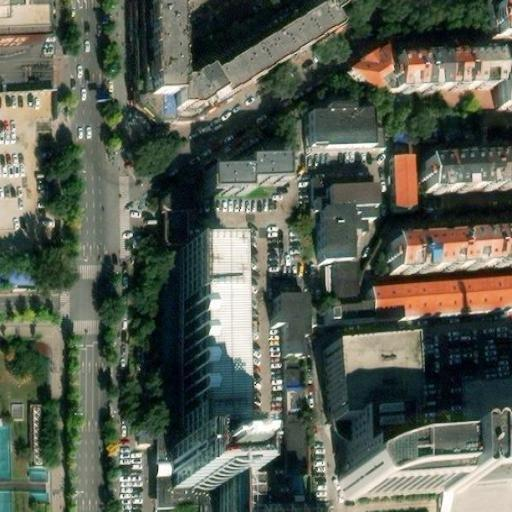building: (162, 0, 333, 122), (180, 256, 234, 447), (349, 455, 512, 507), (369, 285, 512, 333), (329, 340, 414, 413), (382, 231, 512, 274), (395, 41, 502, 84), (318, 190, 374, 271), (414, 133, 512, 175), (272, 289, 306, 404), (174, 445, 240, 489), (142, 5, 170, 108), (305, 120, 372, 162), (459, 379, 512, 427), (199, 161, 278, 192), (216, 485, 304, 512), (346, 58, 393, 101), (323, 268, 370, 310), (0, 87, 52, 120), (353, 422, 396, 460), (281, 417, 308, 475), (388, 157, 410, 223), (161, 206, 192, 246), (0, 418, 11, 482)
